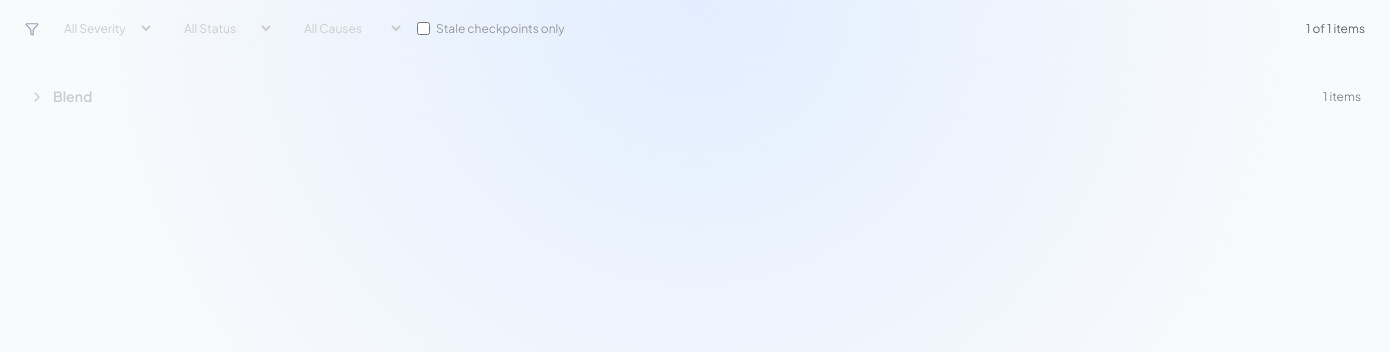
Test: PortfolioReconcile › warning state › renders rows with warning severity
The width and height of the screenshot is (1390, 352).
Click the button "Blend 1 items".
click(73, 96)  # box [12,73,1378,120]
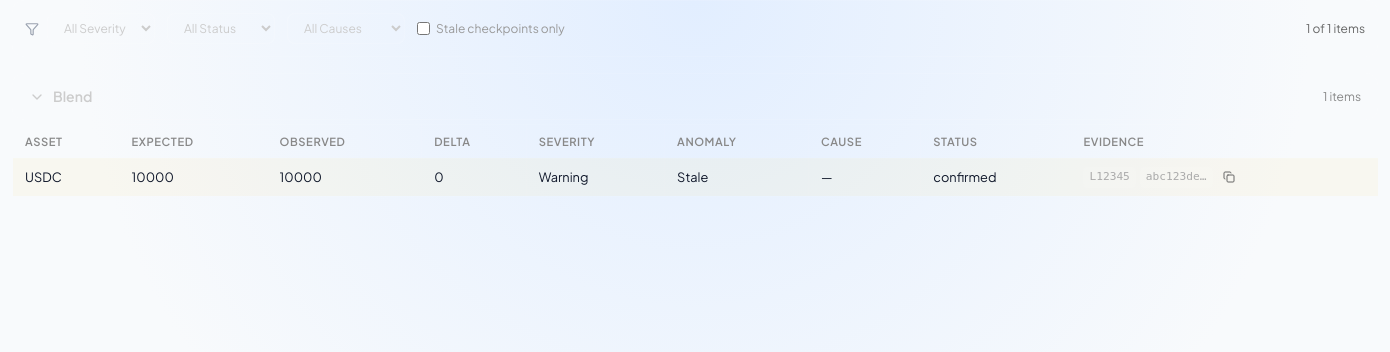
Check: the text "Stale" is shown, box [665,158,808,196]
